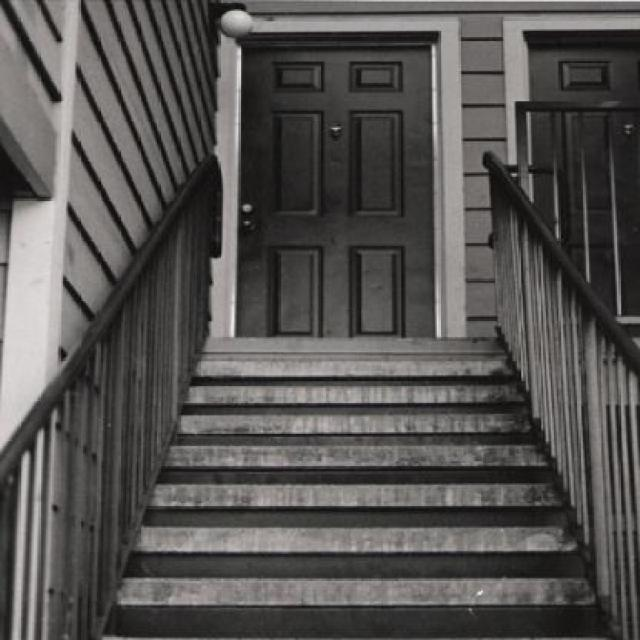stair: (1, 140, 638, 638)
